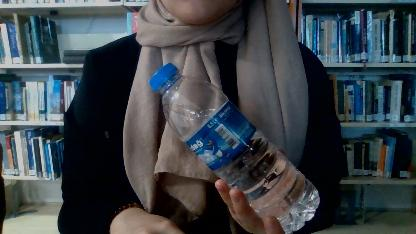Plastic Bottle: (146, 63, 320, 232)
